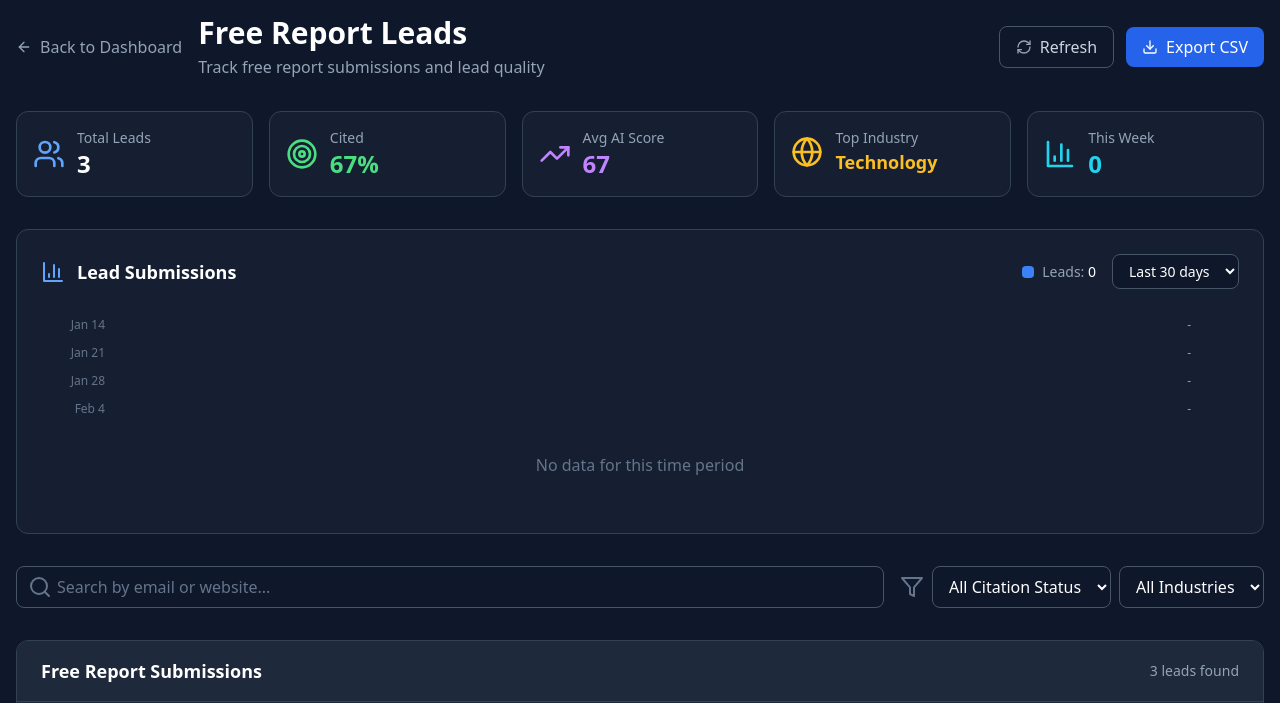
LeadsDashboard Component › Search Functionality › should show "No leads found" for non-matching search
The width and height of the screenshot is (1280, 703).
Step 1. Type "nonexistent" into the field with placeholder "Search by email or website..." → [450, 587], box [16,566,884,608]
(page scrolled)
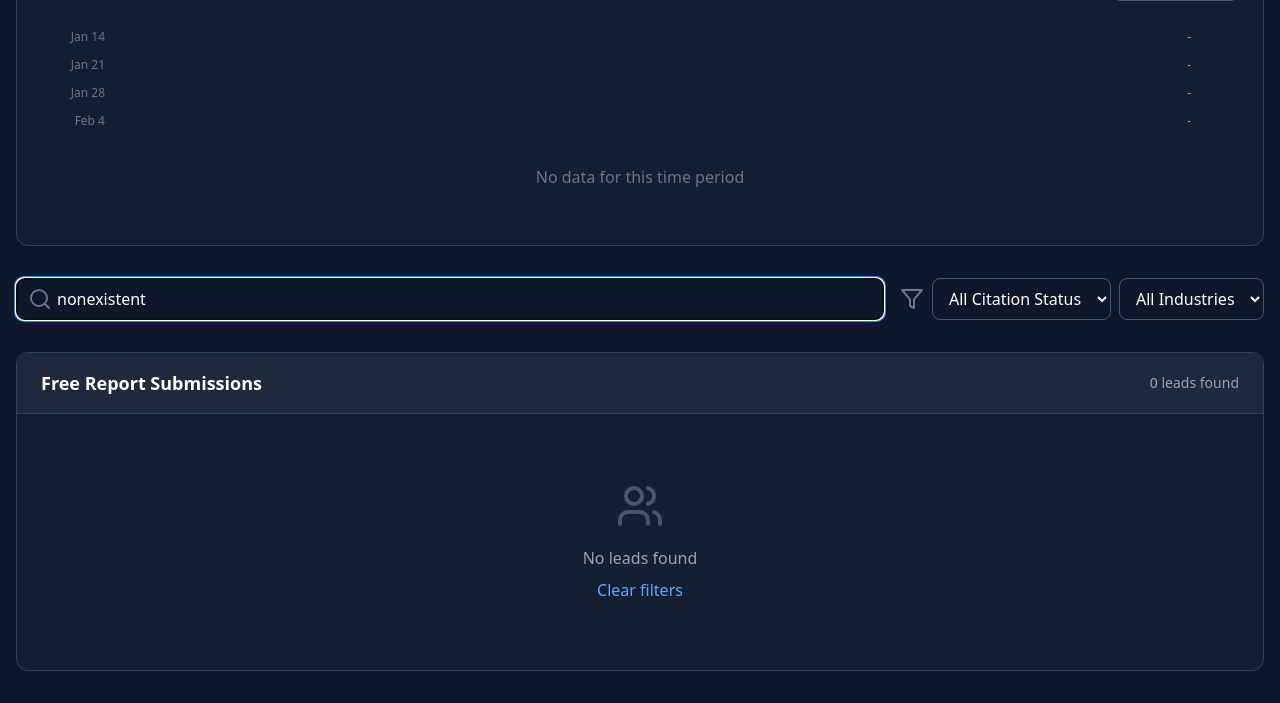
expect the text "No leads found" is shown: met, box [583,546,697,570]
